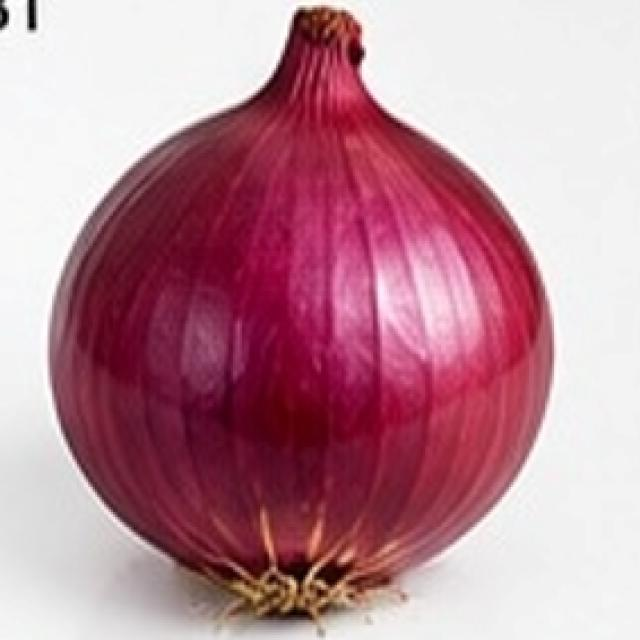healthy: (0, 28, 587, 640), (10, 0, 571, 638)
